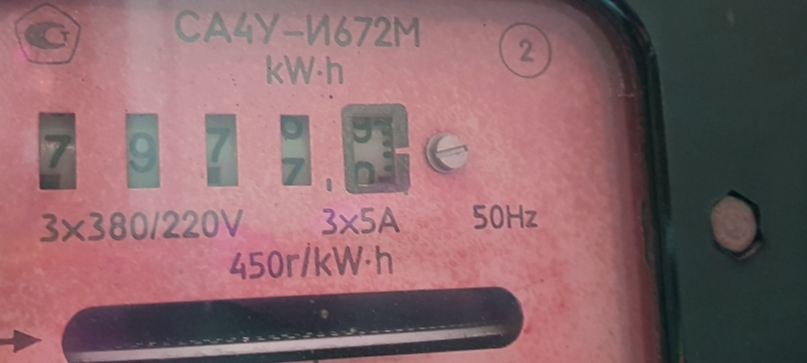0: (352, 157, 377, 188)
7: (40, 129, 76, 176), (279, 148, 311, 191), (205, 124, 236, 166)
9: (126, 128, 159, 177), (348, 113, 380, 147)
screen: (22, 79, 429, 228)
